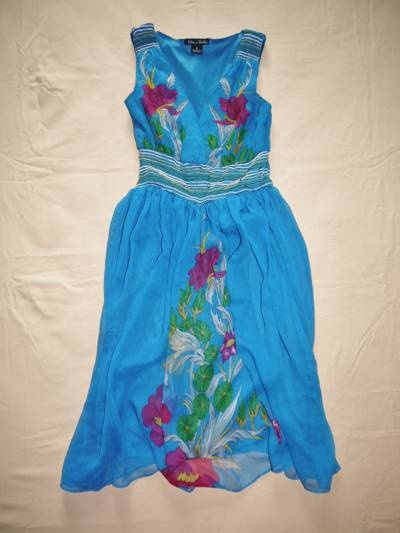Dress: (47, 11, 344, 506)
